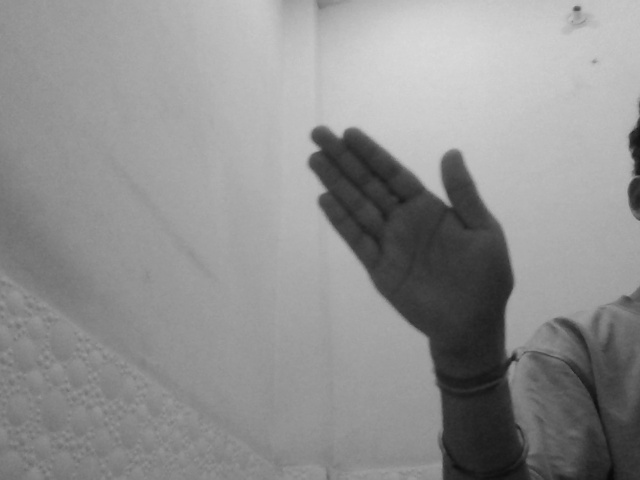Hello: (304, 119, 520, 348)
